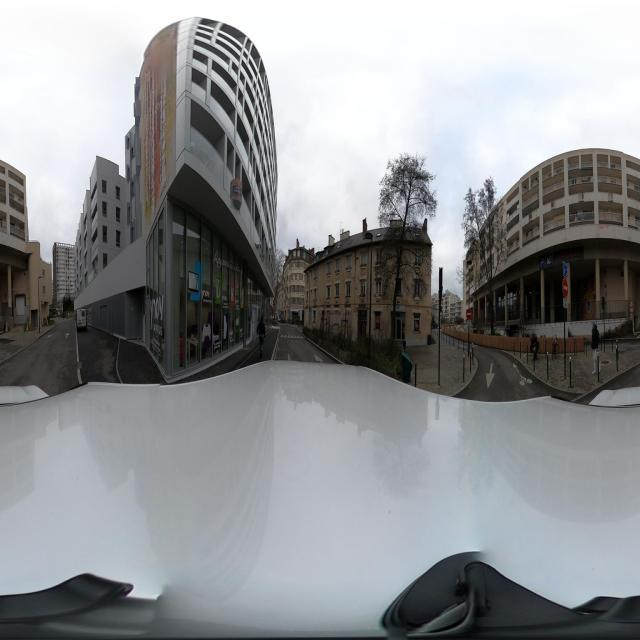car: (76, 306, 90, 330)
